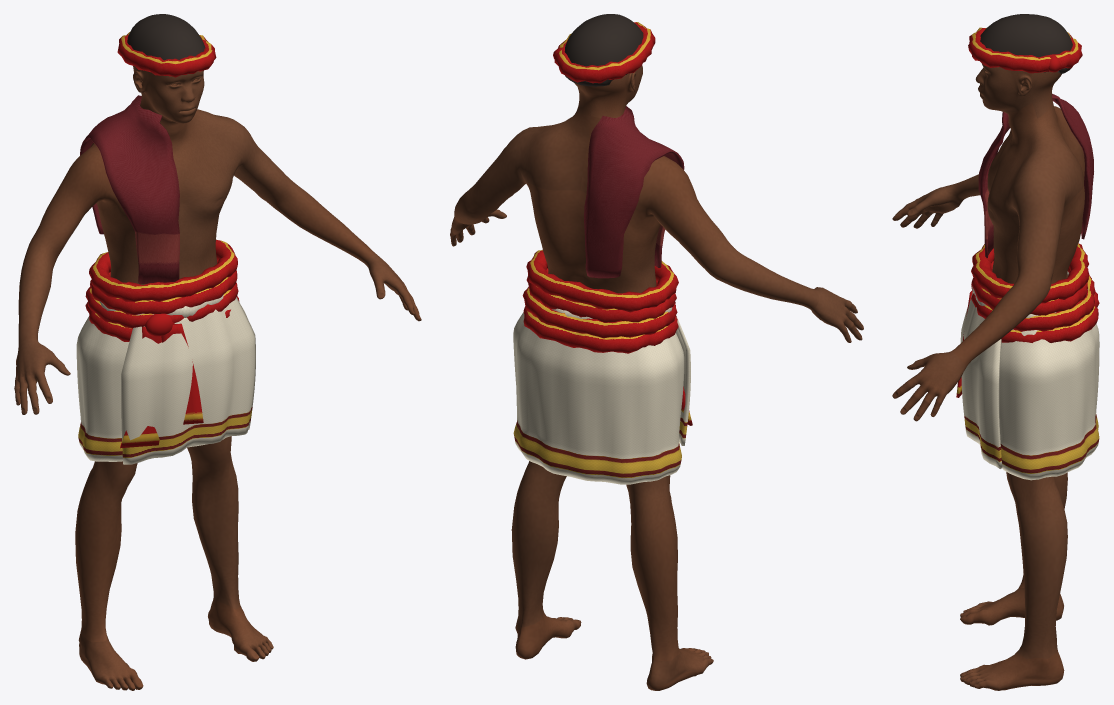
Rendered from guard.fbx.
3 renders of one model, left to right at view 1: azimuth 30°, elevation 25°; view 2: azimuth 150°, elevation 25°; view 3: azimuth 270°, elevation 25°, orthographic.
Parts seen in each view (by area): view 1: Mixamo_guard; view 2: Mixamo_guard; view 3: Mixamo_guard.
Boxes of the visible parts, x1=… form: Mixamo_guard: x1=14, y1=14, x2=421, y2=690; Mixamo_guard: x1=450, y1=14, x2=863, y2=690; Mixamo_guard: x1=892, y1=14, x2=1099, y2=690.
Size of the model in its own units: 1.06 by 1.62 by 0.478.
5 materials, 4 textured.
